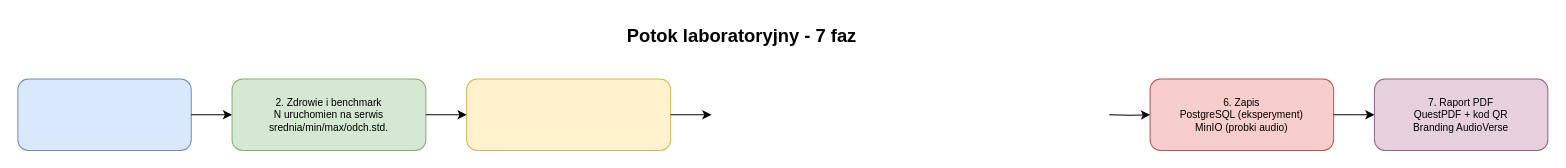
Some shapes in this 1566 by 168 pixel diagram are drawn without their labels. The centre of each missing label's shape, as x and y in pixels:
"1. Wgrywanie pliki audio (1-10) wokal, referencja" belongs at (104,114).
"3. CREPE vs pYIN Porownanie per plik RMSE, Dokladnosc@50c, Pearson" belongs at (568,114).
